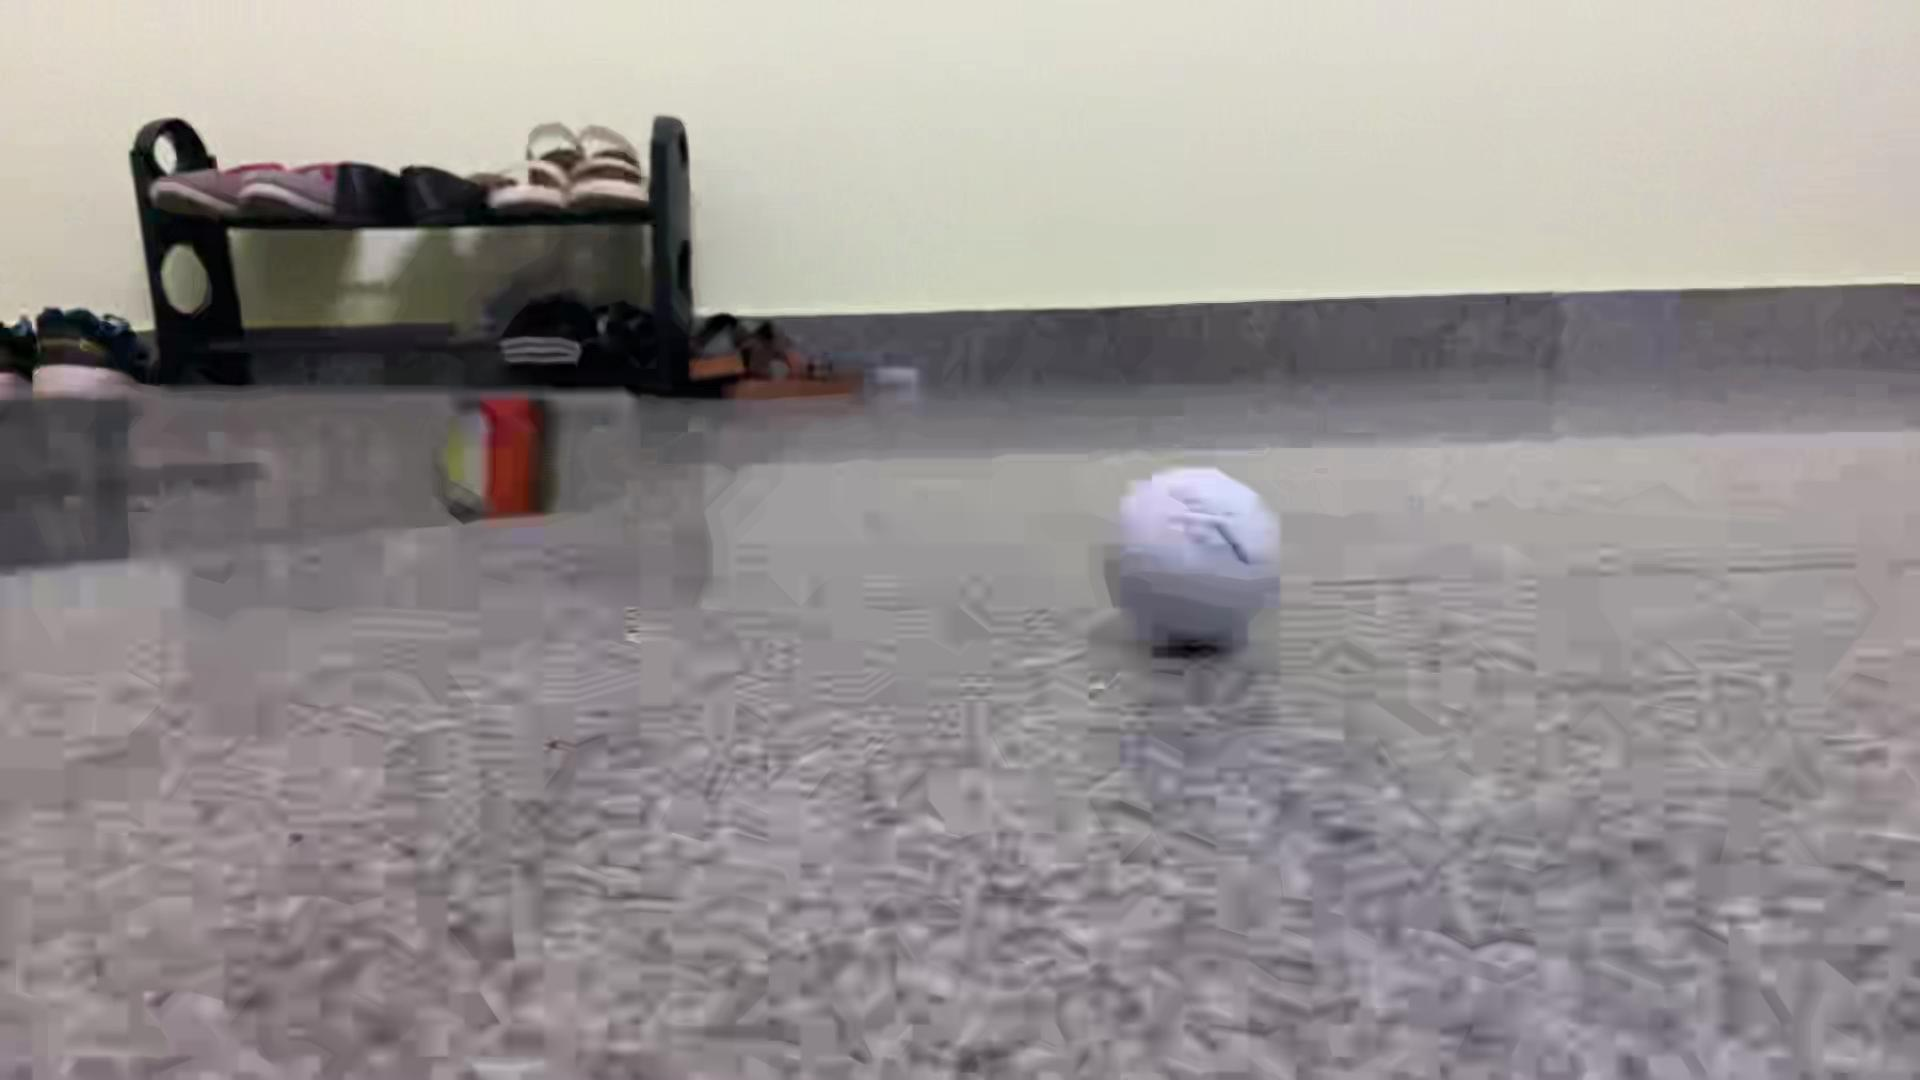golfball: (1101, 465, 1282, 644)
